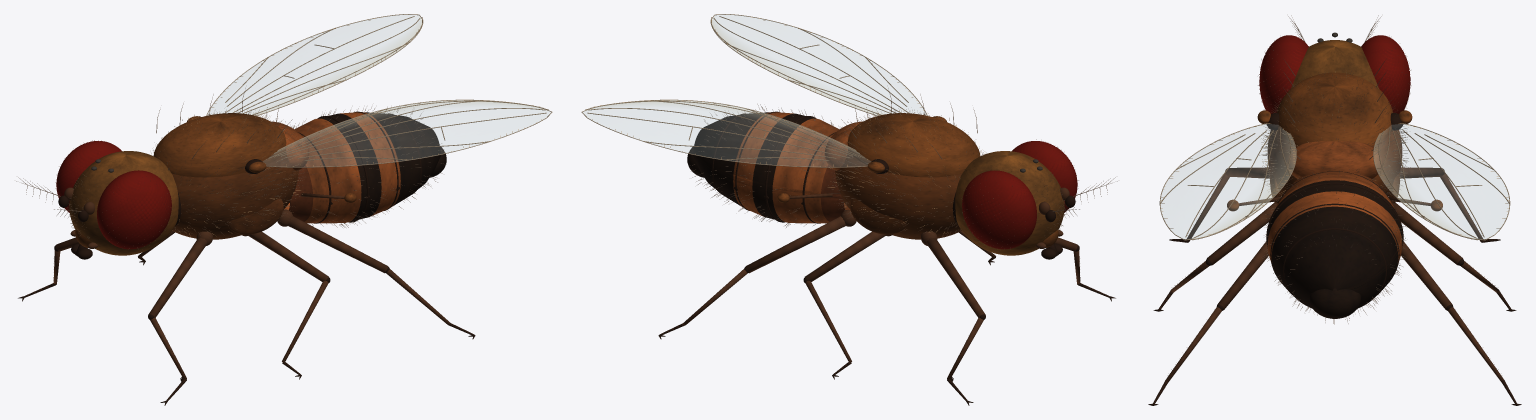
File: male_drosophila_v1.glb
3 views of the same model, side by side, from view 1: azimuth 30°, elevation 25°; view 2: azimuth 150°, elevation 25°; view 3: azimuth 270°, elevation 25° (orthographic). The views are drawn at different scales.
Visible parts, largest first — view 1: 02 abdomen | male tergites, wing | -1 thin membrane, wing | 1 thin membrane, thorax dorsal warm scutum, 01 thorax | mesonotum, eye | -1 individual ommatidia, 03 head | face, eye | -1 base, wing | -1 longitudinal and cross veins, wing | 1 longitudinal and cross veins, eye | 1 individual ommatidia, leg -1.2 femur (+10 smaller); view 2: 02 abdomen | male tergites, wing | 1 thin membrane, wing | -1 thin membrane, thorax dorsal warm scutum, 01 thorax | mesonotum, 03 head | face, eye | 1 individual ommatidia, eye | 1 base, wing | 1 longitudinal and cross veins, wing | -1 longitudinal and cross veins, eye | -1 individual ommatidia, leg 1.2 femur (+10 smaller); view 3: 02 abdomen | male tergites, wing | 1 thin membrane, wing | -1 thin membrane, thorax dorsal warm scutum, thorax posterior scutellum, eye | 1 individual ommatidia, eye | -1 individual ommatidia, 03 head | face, 01 thorax | mesonotum, abdomen | dark segment seams, abdomen | dark terminalia, eye | 1 base (+17 smaller).
Part boxes in pixels (box(x1,y1,x2,y2)): 02 abdomen | male tergites: box(284, 112, 440, 223); wing | -1 thin membrane: box(263, 100, 550, 166); wing | 1 thin membrane: box(208, 15, 421, 115); thorax dorsal warm scutum: box(153, 113, 286, 177); 01 thorax | mesonotum: box(171, 150, 298, 239); eye | -1 individual ommatidia: box(97, 170, 171, 249); 03 head | face: box(69, 151, 178, 255); eye | -1 base: box(97, 171, 171, 248); wing | -1 longitudinal and cross veins: box(268, 100, 548, 160); wing | 1 longitudinal and cross veins: box(224, 16, 422, 114); eye | 1 individual ommatidia: box(56, 140, 121, 212); leg -1.2 femur: box(288, 216, 388, 273); 02 abdomen | male tergites: box(693, 112, 849, 223); wing | 1 thin membrane: box(583, 100, 870, 166); wing | -1 thin membrane: box(712, 15, 925, 115); thorax dorsal warm scutum: box(847, 113, 980, 177); 01 thorax | mesonotum: box(835, 150, 962, 239); 03 head | face: box(955, 151, 1064, 255); eye | 1 individual ommatidia: box(962, 170, 1036, 249); eye | 1 base: box(962, 170, 1036, 248); wing | 1 longitudinal and cross veins: box(585, 100, 865, 160); wing | -1 longitudinal and cross veins: box(711, 16, 909, 114); eye | -1 individual ommatidia: box(1012, 141, 1077, 212); leg 1.2 femur: box(745, 216, 845, 273); 02 abdomen | male tergites: box(1267, 170, 1402, 308); wing | 1 thin membrane: box(1374, 124, 1508, 239); wing | -1 thin membrane: box(1161, 124, 1295, 239); thorax dorsal warm scutum: box(1277, 72, 1392, 145); thorax posterior scutellum: box(1287, 141, 1382, 178); eye | 1 individual ommatidia: box(1361, 35, 1410, 113); eye | -1 individual ommatidia: box(1259, 35, 1308, 113); 03 head | face: box(1291, 40, 1378, 88); 01 thorax | mesonotum: box(1267, 130, 1402, 196); abdomen | dark segment seams: box(1266, 171, 1403, 307); abdomen | dark terminalia: box(1309, 288, 1360, 318); eye | 1 base: box(1362, 35, 1410, 113).
Bounding box in the file's own units: 4.28 × 1.87 × 2.71.
24 materials, 19 textured.
